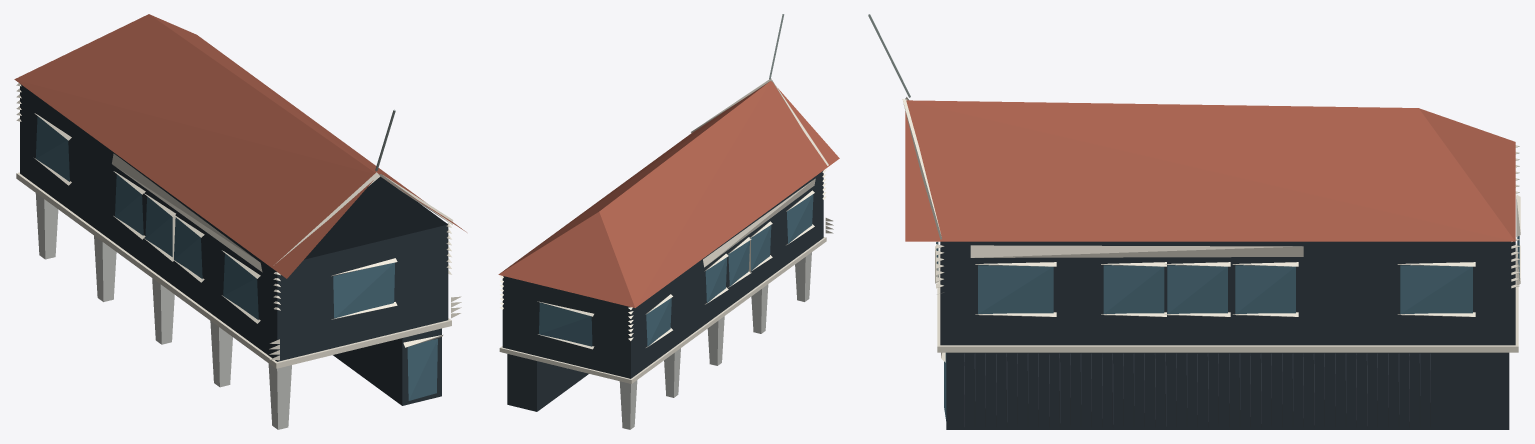
Rendered from naco-house.lod1.glb.
The picture shows the model from 3 angles, left to right: view 1: azimuth 30°, elevation 25°; view 2: azimuth 150°, elevation 25°; view 3: azimuth 270°, elevation 25°; orthographic projection. The views are drawn at different scales.
Parts seen in each view (by area): view 1: naco-house; view 2: naco-house; view 3: naco-house.
Part boxes in pixels (x1=…): naco-house: x1=14, y1=14, x2=466, y2=429; naco-house: x1=498, y1=14, x2=839, y2=429; naco-house: x1=868, y1=14, x2=1520, y2=429.
Size of the model in its own units: 8.24 by 13.51 by 21.55.
